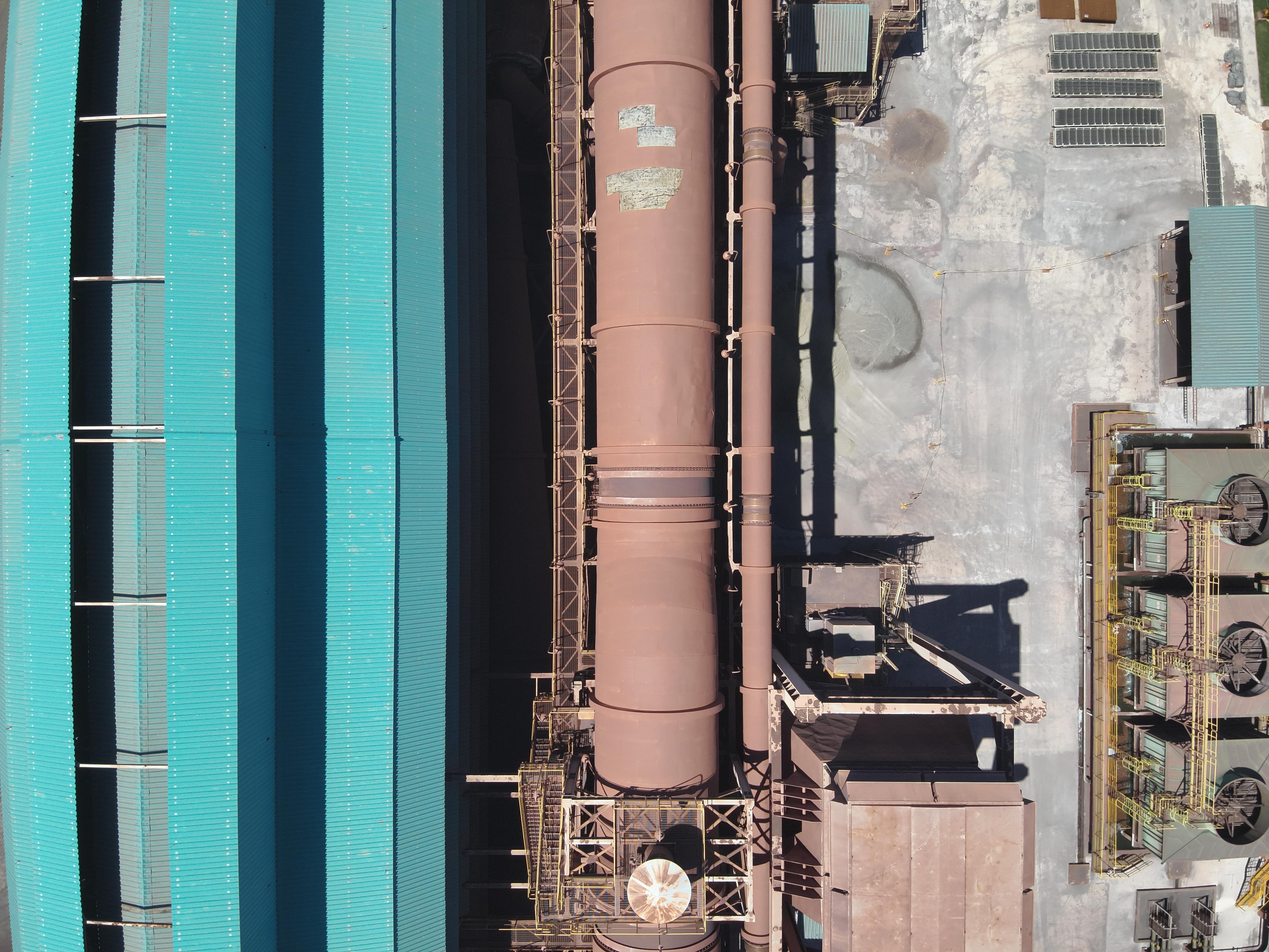Failures: (606, 164, 685, 213), (618, 103, 678, 149)
